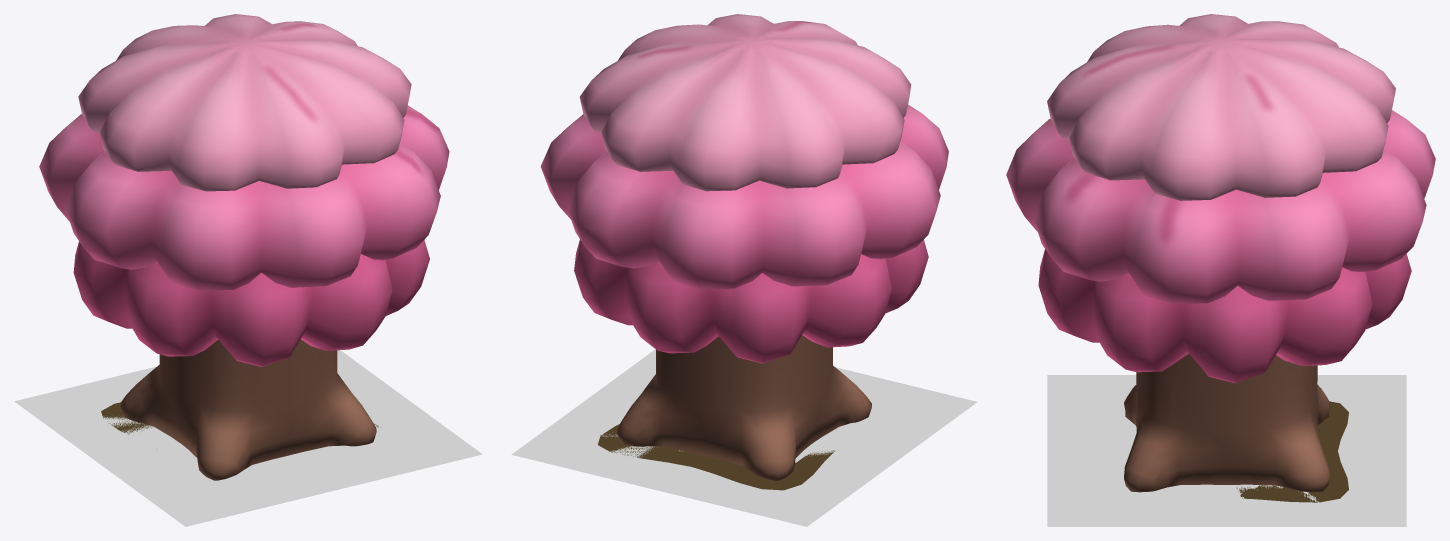
Rendered from JP_SakuraTree.fbx.
3 views of the same model, side by side, from view 1: azimuth 30°, elevation 25°; view 2: azimuth 150°, elevation 25°; view 3: azimuth 270°, elevation 25° (orthographic). The views are drawn at different scales.
Parts seen in each view (by area): view 1: polySurface4, SakuraTree_Grid_Large, polySurface2, Shadow; view 2: polySurface4, SakuraTree_Grid_Large, polySurface2, Shadow; view 3: polySurface4, SakuraTree_Grid_Large, polySurface2, Shadow.
Boxes of the visible parts, x1,y1,x2,y2 form: polySurface4: [39, 14, 449, 366]; SakuraTree_Grid_Large: [14, 350, 482, 526]; polySurface2: [120, 339, 376, 480]; Shadow: [101, 402, 380, 434]; polySurface4: [540, 14, 948, 363]; SakuraTree_Grid_Large: [511, 349, 977, 526]; polySurface2: [617, 335, 871, 480]; Shadow: [598, 424, 834, 490]; polySurface4: [1006, 14, 1435, 382]; SakuraTree_Grid_Large: [1047, 375, 1406, 526]; polySurface2: [1124, 353, 1329, 492]; Shadow: [1236, 401, 1348, 502].
Size of the model in its own units: 2.39 by 2.52 by 2.39.
